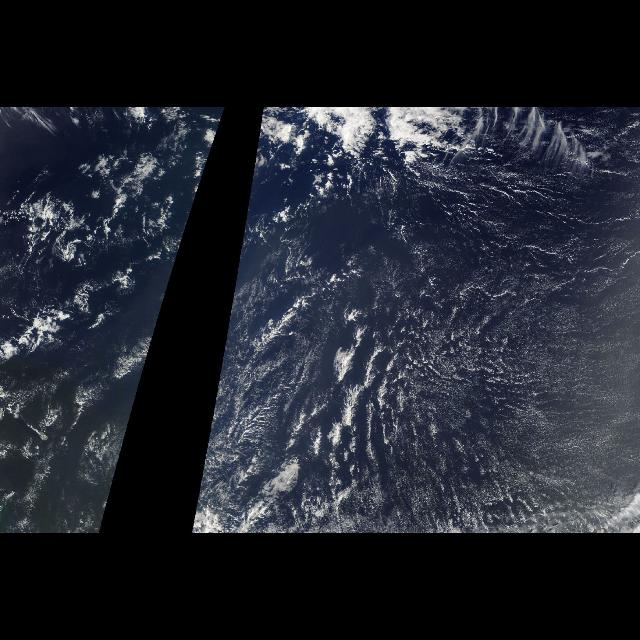Sugar: (200, 164, 638, 530)
